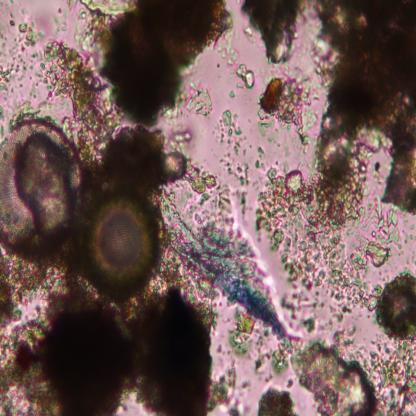Background material: (0, 253, 206, 414), (311, 0, 416, 217), (83, 0, 234, 116), (263, 173, 381, 314), (85, 124, 218, 193), (289, 334, 373, 415), (43, 36, 115, 126), (260, 76, 317, 149), (240, 1, 303, 65), (372, 338, 416, 416), (350, 201, 398, 271), (375, 271, 416, 338), (218, 110, 252, 186), (210, 361, 245, 415), (227, 312, 258, 356), (0, 44, 26, 92), (256, 385, 296, 415), (252, 342, 289, 374), (184, 88, 213, 117), (7, 103, 42, 126), (217, 32, 238, 64), (16, 21, 42, 46), (234, 65, 256, 89), (298, 312, 320, 332)
Cotton: (161, 191, 291, 337)
Diatom: (0, 117, 85, 251), (84, 193, 162, 298)
